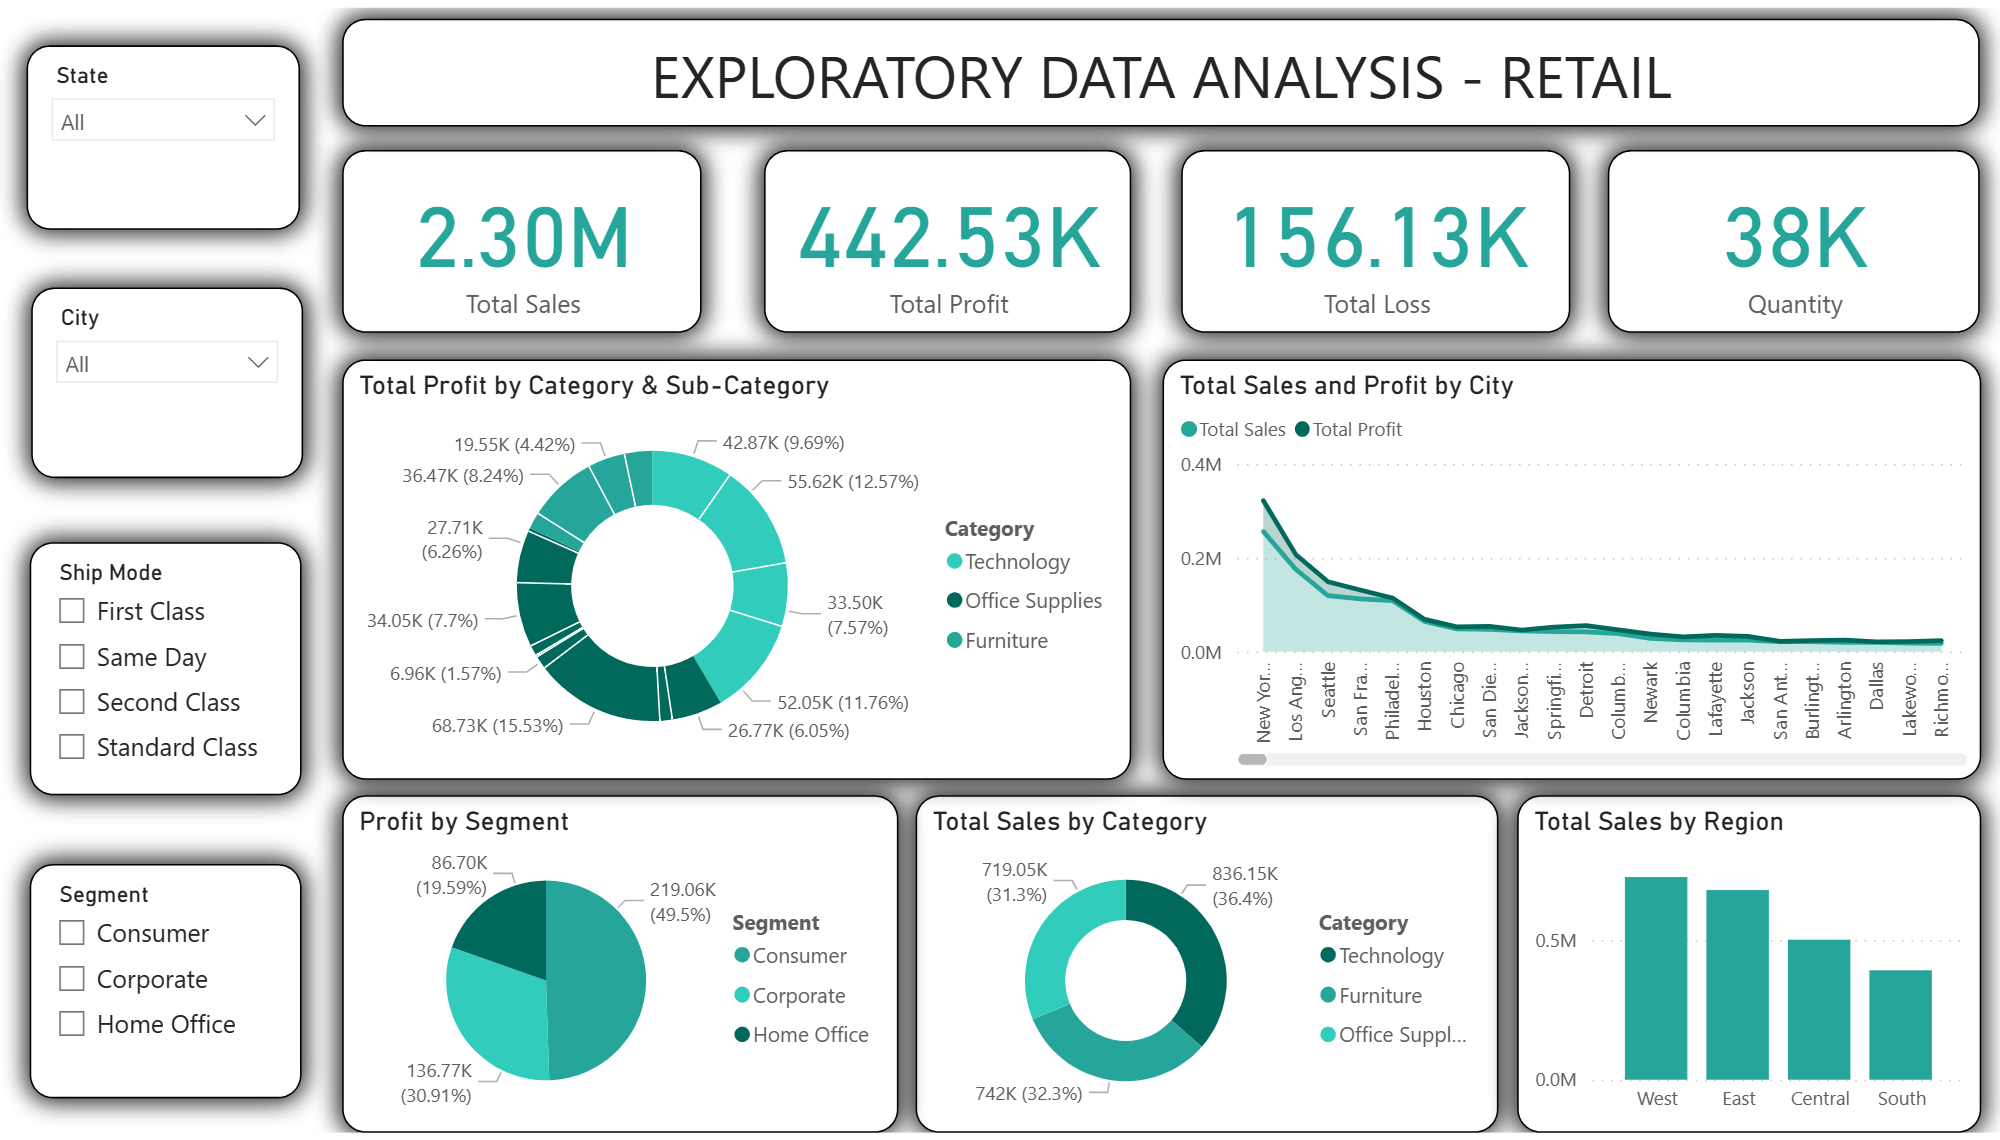

This screenshot's page, from the dashboard's own definition file:
{"tool":"powerbi","page":{"name":"Dashboard","canvas":[1280,720],"ordinal":0},"visuals":[{"type":"slicer","fields":{"Values":["Updated_Superstore.City"]},"box":[20.1,178.9,173.9,121.6],"z":0},{"type":"donutChart","title":"Total Sales by Category","fields":{"Category":["Updated_Superstore.Category"],"Y":["Sum(Updated_Superstore.Sales)"]},"box":[586.1,503.6,372.9,216.1],"z":1000},{"type":"pieChart","title":"Profit by Segment","fields":{"Category":["Updated_Superstore.Segment"],"Y":["Sum(Updated_Superstore.Total Profit)"]},"box":[219.1,503.6,355.9,216.1],"z":2000},{"type":"slicer","fields":{"Values":["Updated_Superstore.State"]},"box":[17.1,24.1,174.9,117.6],"z":3000},{"type":"columnChart","title":"Total Sales by Region","fields":{"Category":["Updated_Superstore.Region"],"Y":["Sum(Updated_Superstore.Sales)"]},"box":[971.1,503.6,296.5,216.1],"z":4000},{"type":"slicer","fields":{"Values":["Updated_Superstore.Ship Mode"]},"box":[19.1,341.8,173.9,161.8],"z":5000},{"type":"slicer","fields":{"Values":["Updated_Superstore.Segment"]},"box":[19.1,547.9,173.9,149.8],"z":6000},{"type":"donutChart","title":"Total Profit by Category & Sub-Category","fields":{"Category":["Updated_Superstore.Category"],"Series":["Updated_Superstore.Sub-Category"],"Y":["Sum(Updated_Superstore.Total Profit)"]},"box":[219.1,225.2,504.6,269.4],"z":7000},{"type":"card","fields":{"Values":["Sum(Updated_Superstore.Sales)"]},"box":[219.1,91.5,230.2,116.6],"z":8000},{"type":"card","fields":{"Values":["Sum(Updated_Superstore.Total Profit)"]},"box":[488.5,91.5,235.2,116.6],"z":9000},{"type":"card","fields":{"Values":["Sum(Updated_Superstore.Quantity)"]},"box":[1029.4,91.5,238.2,116.6],"z":10000},{"type":"textbox","box":[219.1,7,1048.5,69.4],"z":11000},{"type":"card","fields":{"Values":["Sum(Updated_Superstore.Total Loss)"]},"box":[755.9,91.5,249.3,116.6],"z":12000},{"type":"stackedAreaChart","title":"Total Sales and Profit by City","fields":{"Category":["Updated_Superstore.City"],"Y":["Sum(Updated_Superstore.Sales)","Sum(Updated_Superstore.Total Profit)"]},"box":[743.9,225.2,523.7,269.4],"z":13000}]}

Visuals, with their boxes in screenshot pixels (x1, y1, x2, y2), scaled from the page's 1280x720 canvas onto the 2000x1140 screenshot:
slicer - Updated_Superstore.City: {"x1": 31, "y1": 283, "x2": 303, "y2": 476}
"Total Sales by Category" donutChart: {"x1": 916, "y1": 797, "x2": 1498, "y2": 1139}
"Profit by Segment" pieChart: {"x1": 342, "y1": 797, "x2": 898, "y2": 1139}
slicer - Updated_Superstore.State: {"x1": 27, "y1": 38, "x2": 300, "y2": 224}
"Total Sales by Region" columnChart: {"x1": 1517, "y1": 797, "x2": 1981, "y2": 1139}
slicer - Updated_Superstore.Ship Mode: {"x1": 30, "y1": 541, "x2": 302, "y2": 797}
slicer - Updated_Superstore.Segment: {"x1": 30, "y1": 868, "x2": 302, "y2": 1105}
"Total Profit by Category & Sub-Category" donutChart: {"x1": 342, "y1": 357, "x2": 1131, "y2": 783}
card - Sum(Updated_Superstore.Sales): {"x1": 342, "y1": 145, "x2": 702, "y2": 329}
card - Sum(Updated_Superstore.Total Profit): {"x1": 763, "y1": 145, "x2": 1131, "y2": 329}
card - Sum(Updated_Superstore.Quantity): {"x1": 1608, "y1": 145, "x2": 1981, "y2": 329}
textbox: {"x1": 342, "y1": 11, "x2": 1981, "y2": 121}
card - Sum(Updated_Superstore.Total Loss): {"x1": 1181, "y1": 145, "x2": 1571, "y2": 329}
"Total Sales and Profit by City" stackedAreaChart: {"x1": 1162, "y1": 357, "x2": 1981, "y2": 783}
